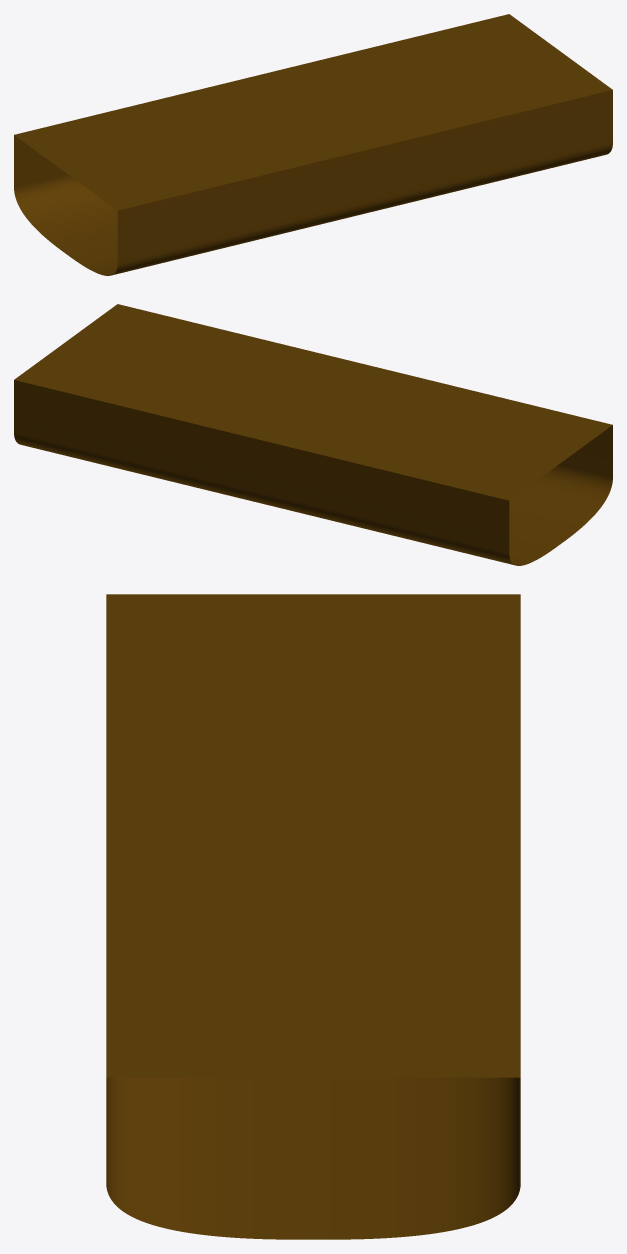
Rendered from nadi.glb.
The picture shows the model from 3 angles, top to bottom: view 1: azimuth 30°, elevation 25°; view 2: azimuth 150°, elevation 25°; view 3: azimuth 270°, elevation 25°; orthographic projection. The views are drawn at different scales.
Visible parts, largest first — view 1: Plane002; view 2: Plane002; view 3: Plane002.
Boxes of the visible parts, left/top/right/bottom form: Plane002: left=14, top=14, right=612, bottom=275; Plane002: left=14, top=304, right=612, bottom=565; Plane002: left=106, top=594, right=520, bottom=1239.
Bounding box in the file's own units: 26.22 × 4.1 × 9.5.
